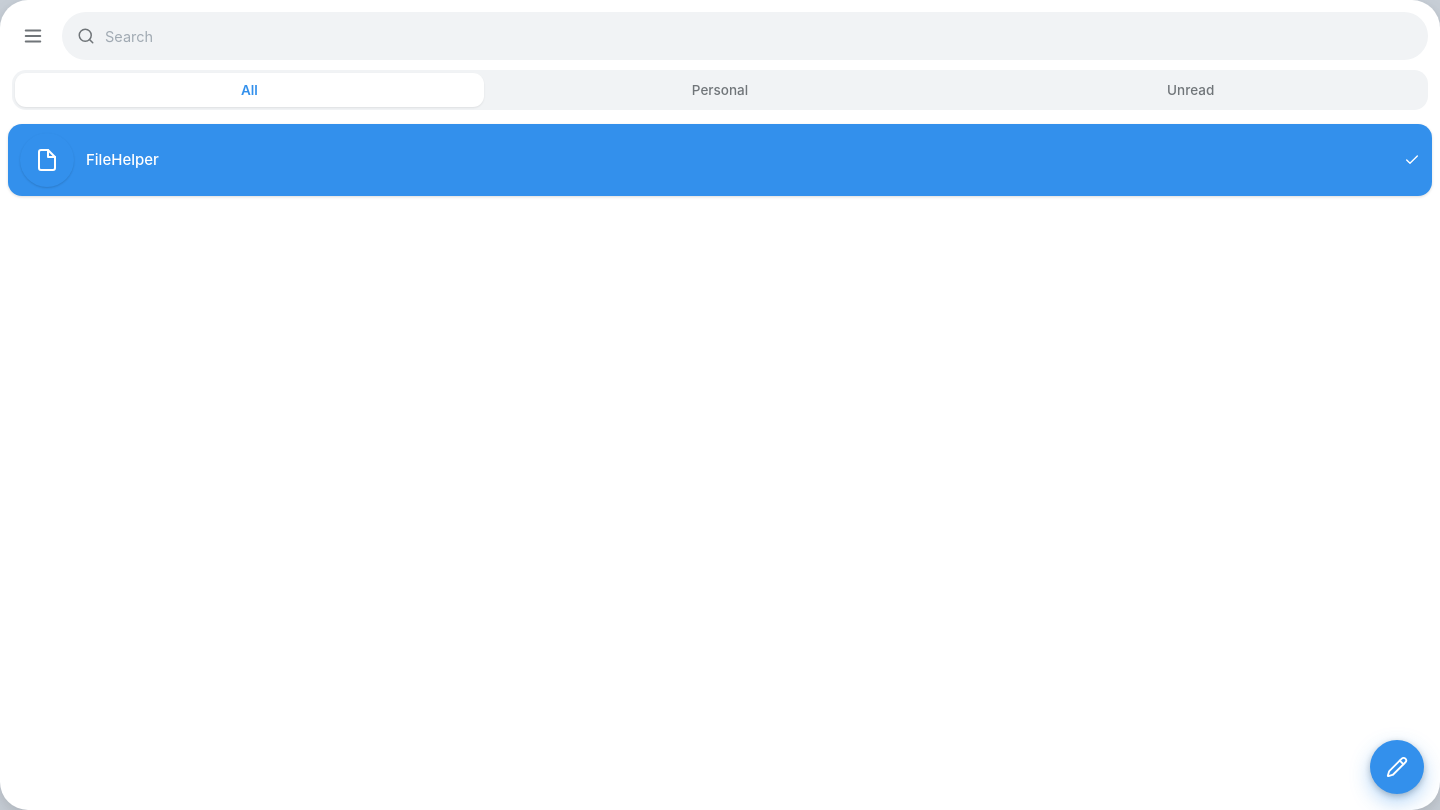
Test: Sidebar › sidebar search filters the single chat
The width and height of the screenshot is (1440, 810).
Type "filehelper" into the field named "Search chats" at coordinates (759, 36), box [105, 28, 1413, 44]
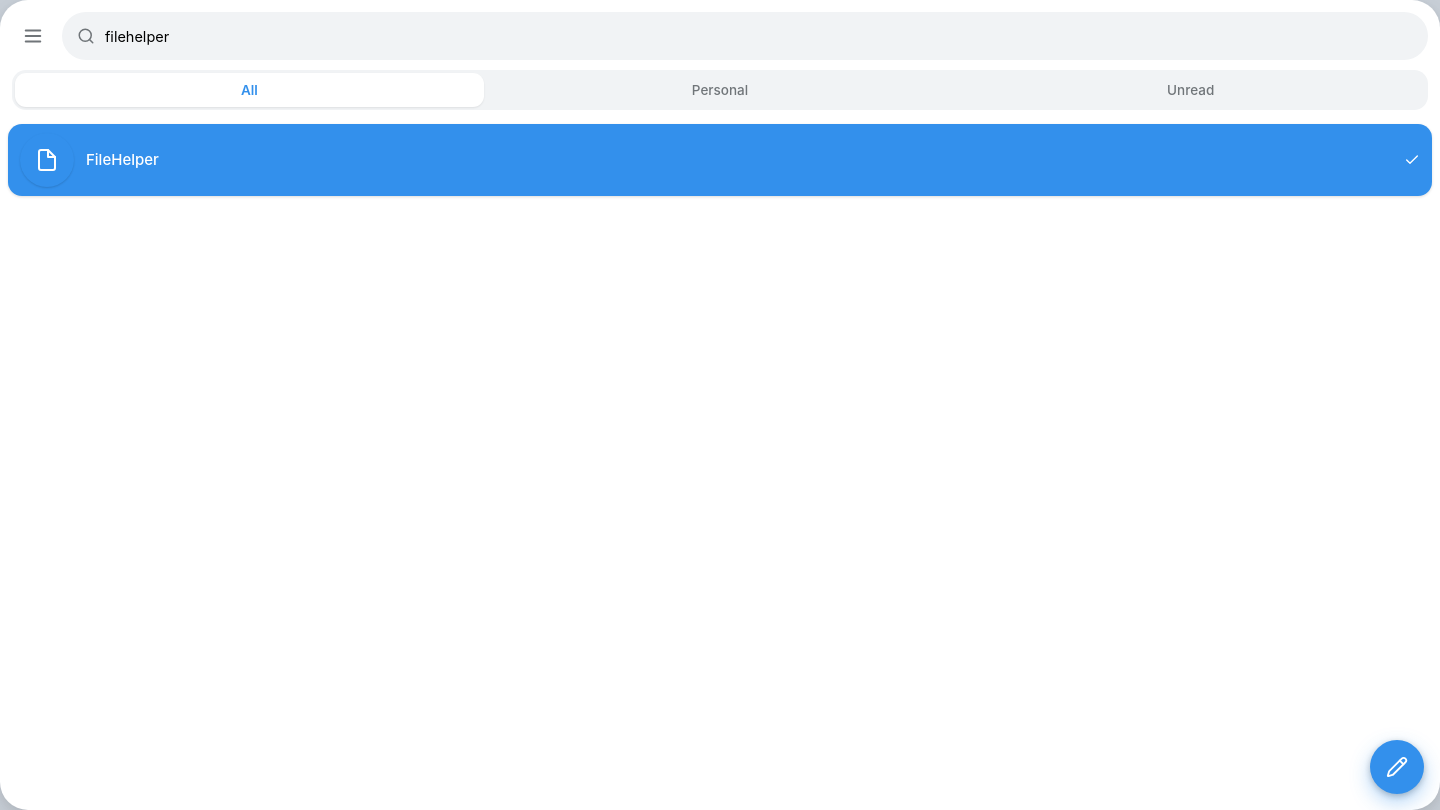
Expected: the text "FileHelper" is shown, [86, 149, 159, 170]
Replace the text in the field named "Search chats" with "zzz" at coordinates (759, 36), box [105, 28, 1413, 44]
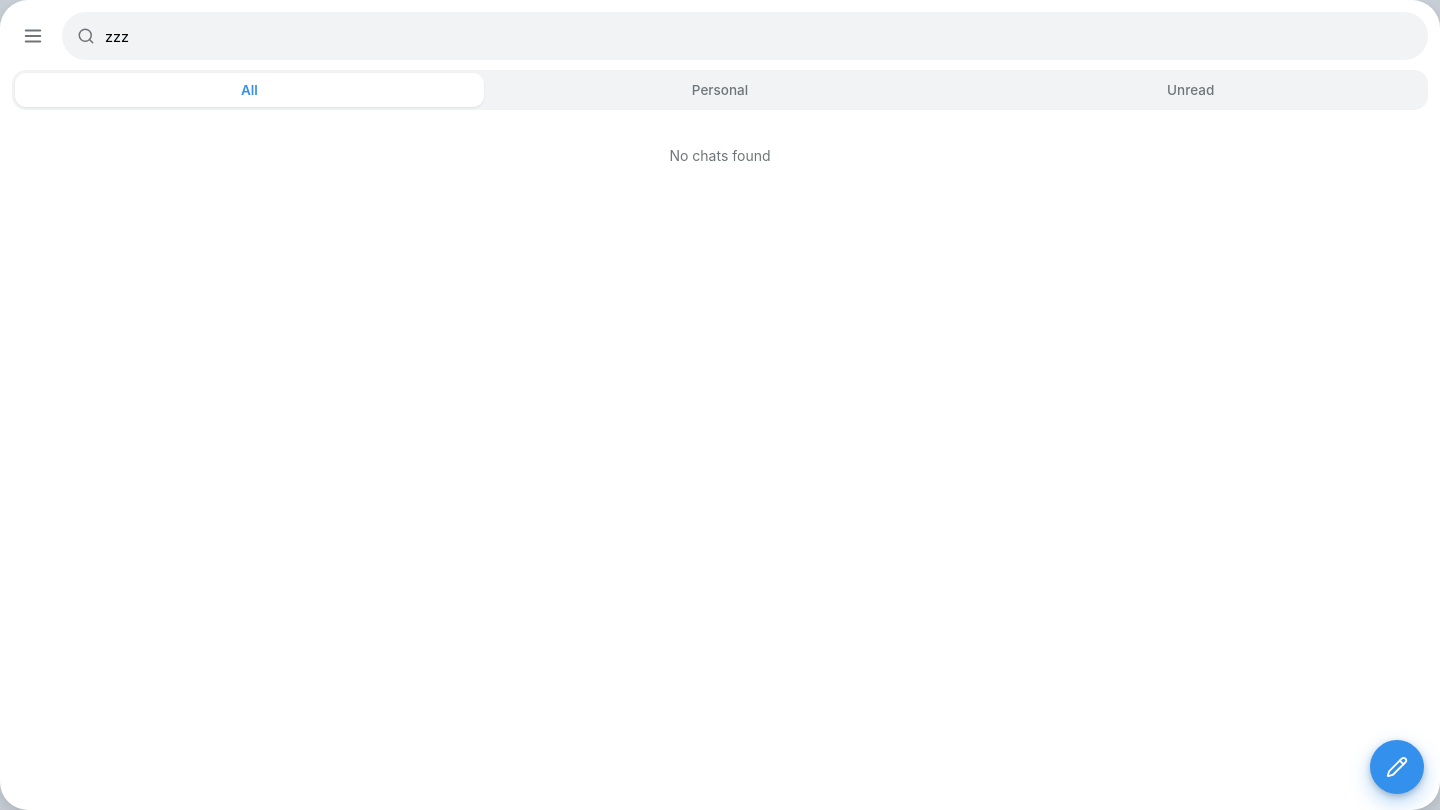
Now the text "No chats found" is shown, box [670, 147, 771, 164]
